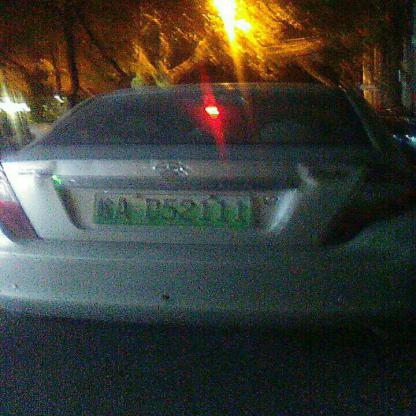lp: (94, 192, 252, 226)
